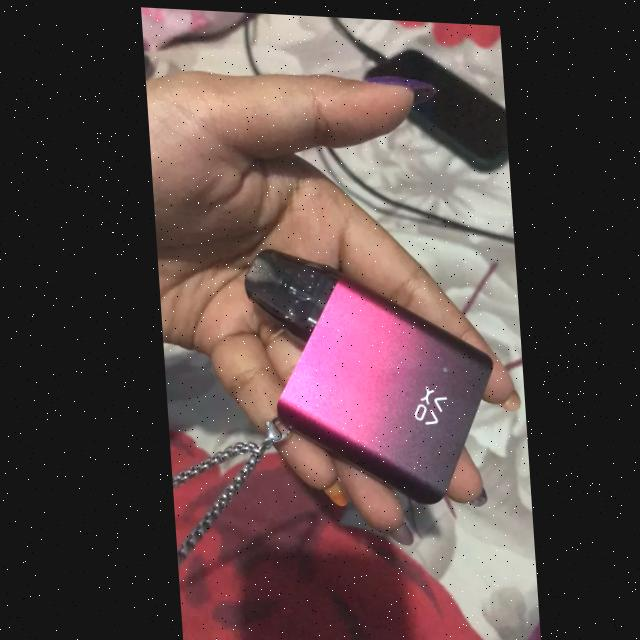vape: (237, 245, 495, 503)
